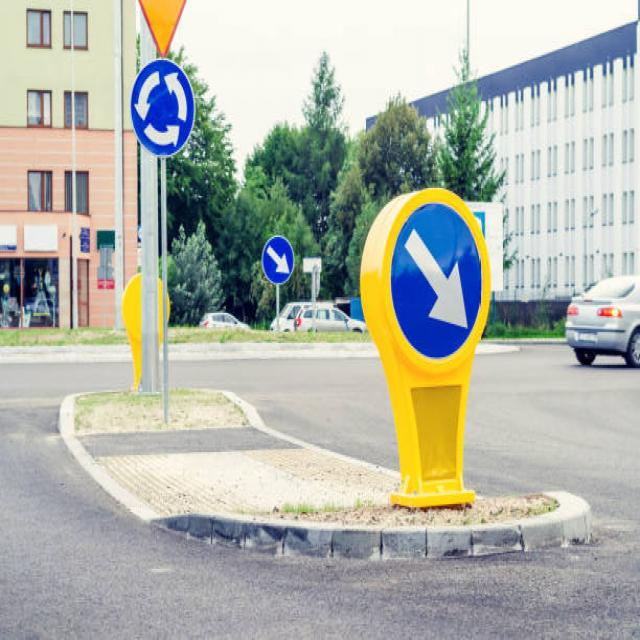round_about: (130, 56, 196, 158)
